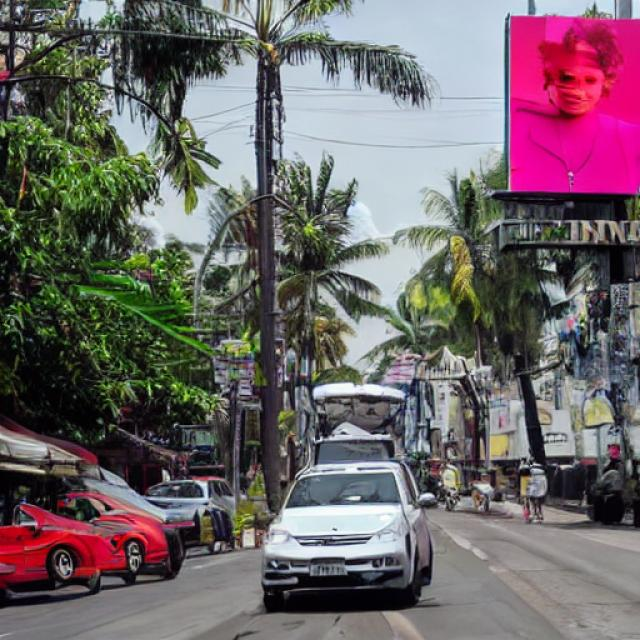Billboard: (503, 12, 640, 204)
